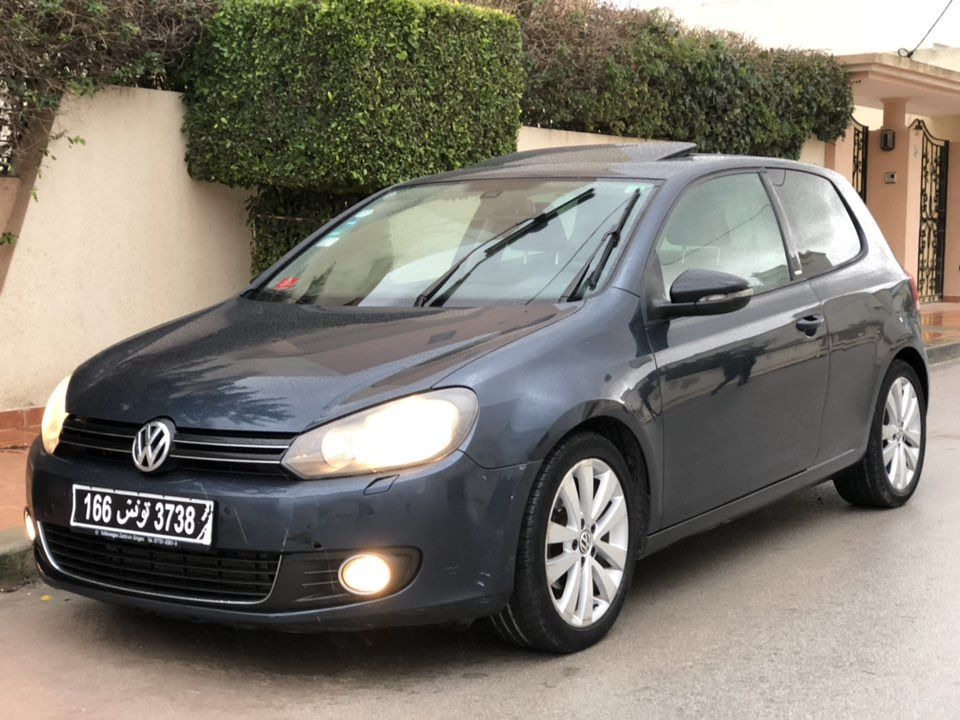LP: (69, 481, 214, 550)
